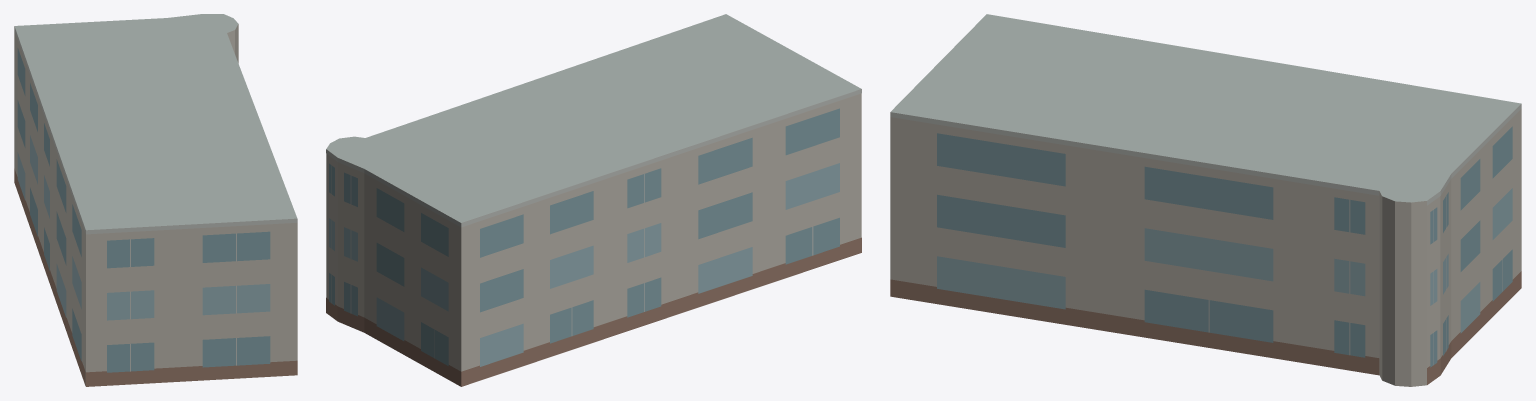
The model's file is survey-upis-32994664.glb.
3 renders of one model, left to right at view 1: azimuth 30°, elevation 25°; view 2: azimuth 150°, elevation 25°; view 3: azimuth 270°, elevation 25°, orthographic. The views are drawn at different scales.
Parts seen in each view (by area): view 1: survey-upis-32994664.tmp; view 2: survey-upis-32994664.tmp; view 3: survey-upis-32994664.tmp.
Part boxes in pixels (x1,y1,x2,y2): survey-upis-32994664.tmp: (14,14,297,386); survey-upis-32994664.tmp: (326,14,861,386); survey-upis-32994664.tmp: (890,14,1521,386).
Bounding box in the file's own units: 20.06 × 9.15 × 28.4.
